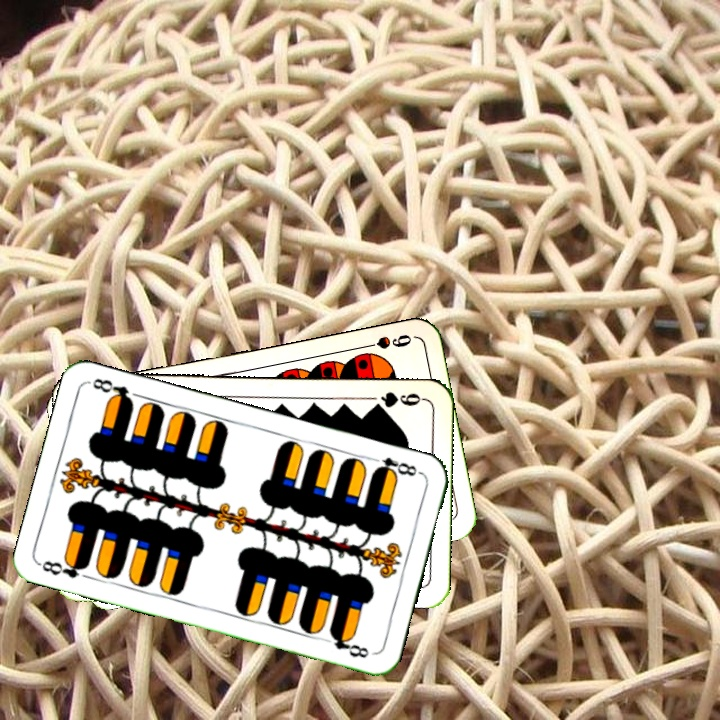E8: (366, 453, 424, 481), (36, 554, 92, 581)
G9: (368, 388, 427, 413)
S9: (355, 330, 415, 352)
